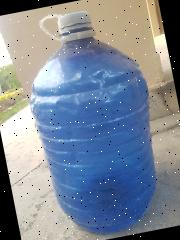plastic: (13, 0, 174, 240)
